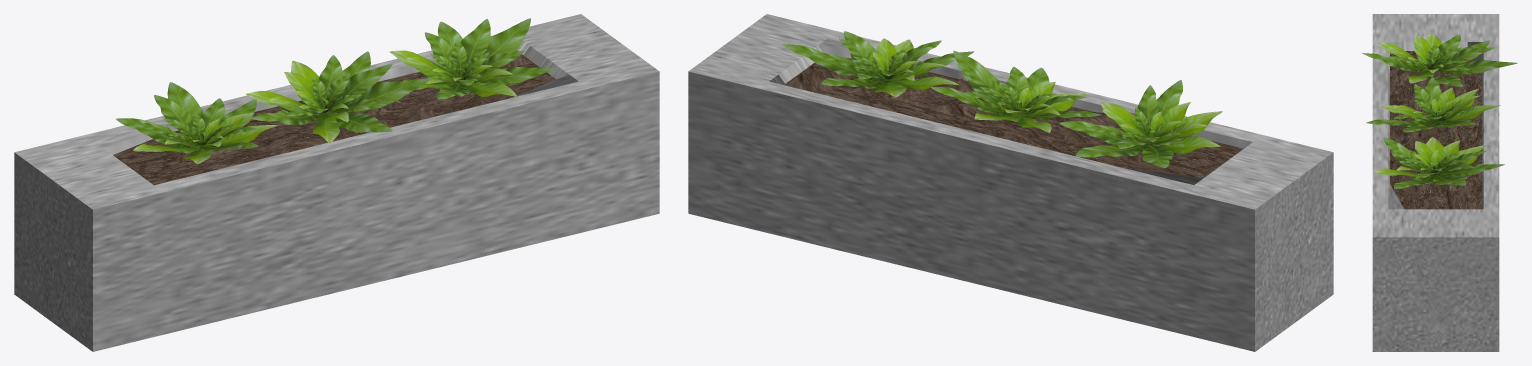
File: Aspelemnium nidus Plant Box.fbx
3 views of the same model, side by side, from view 1: azimuth 30°, elevation 25°; view 2: azimuth 150°, elevation 25°; view 3: azimuth 270°, elevation 25° (orthographic). The views are drawn at different scales.
Parts seen in each view (by area): view 1: Cube, Plane, aspelenium nidus.001, aspelenium nidus.002, aspelenium nidus; view 2: Cube, Plane, aspelenium nidus, aspelenium nidus.002, aspelenium nidus.001; view 3: Cube, Plane, aspelenium nidus, aspelenium nidus.002, aspelenium nidus.001.
Part boxes in pixels (box(x1,y1,x2,y2)): Cube: box(14, 14, 659, 351); Plane: box(113, 50, 555, 184); aspelenium nidus.001: box(246, 51, 431, 143); aspelenium nidus.002: box(390, 18, 553, 99); aspelenium nidus: box(116, 82, 278, 164); Cube: box(688, 14, 1333, 351); Plane: box(784, 58, 1243, 177); aspelenium nidus: box(1059, 80, 1222, 167); aspelenium nidus.002: box(782, 31, 974, 97); aspelenium nidus.001: box(931, 50, 1101, 132); Cube: box(1372, 14, 1499, 351); Plane: box(1390, 51, 1482, 209); aspelenium nidus: box(1362, 33, 1517, 86); aspelenium nidus.002: box(1373, 137, 1504, 188); aspelenium nidus.001: box(1366, 77, 1500, 132).
Size of the model in its own units: 151 by 45.12 by 44.54.
11 materials, 8 textured.
